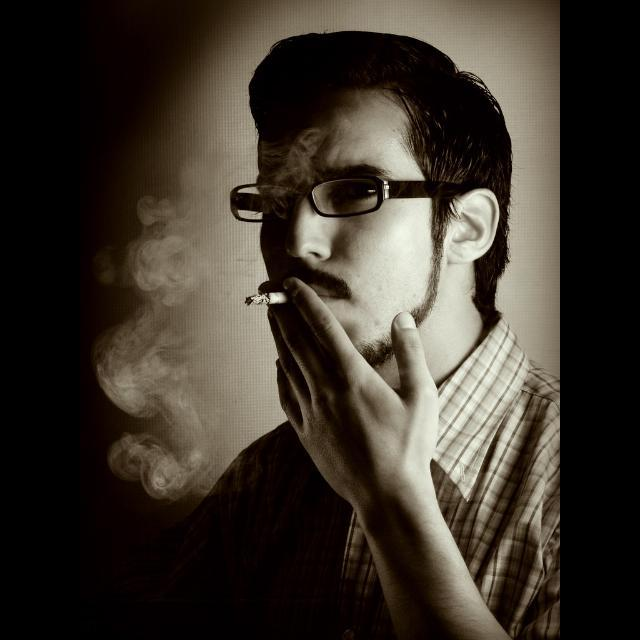rokok: (238, 280, 294, 310)
